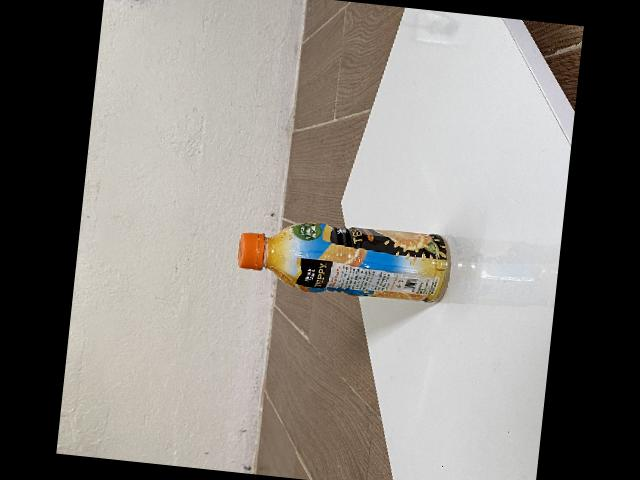teppy_orange_juice: (239, 222, 452, 303)
